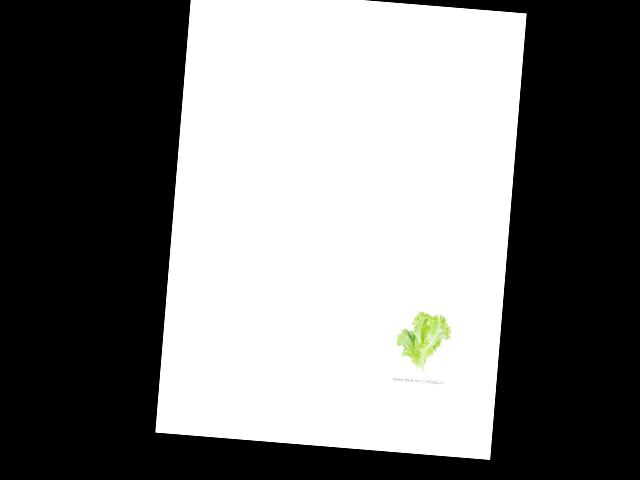lettuce: (392, 308, 452, 377)
